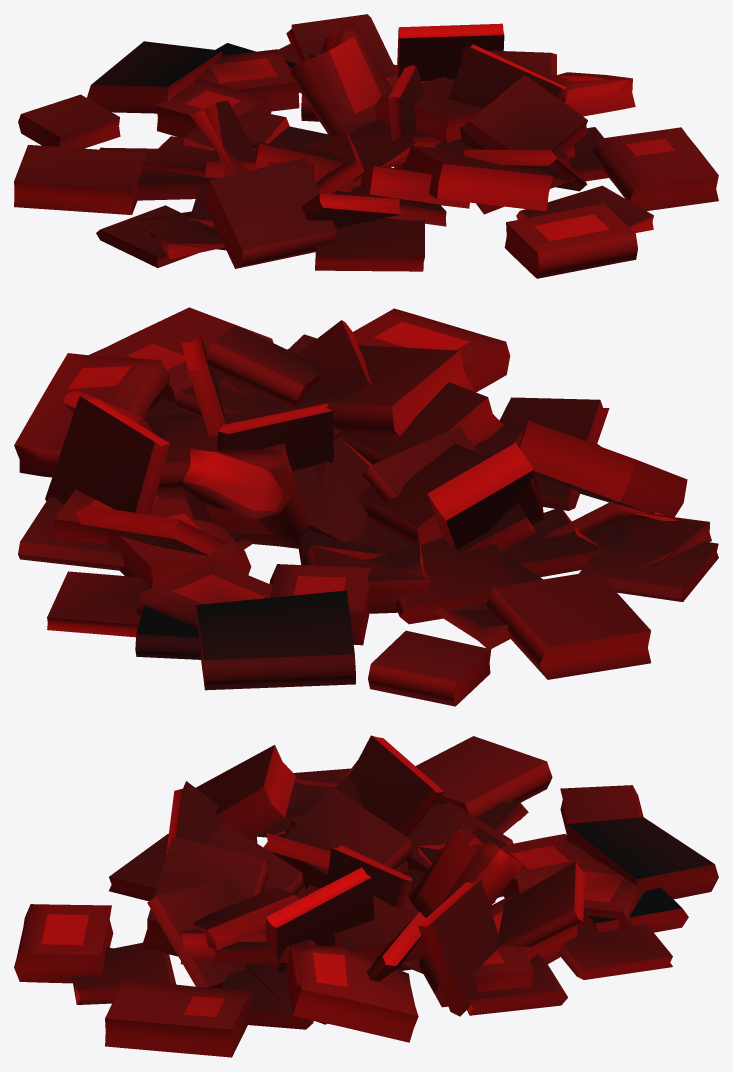
File: PileOfBooks.glb
3 renders of one model, top to bottom at view 1: azimuth 30°, elevation 25°; view 2: azimuth 150°, elevation 25°; view 3: azimuth 270°, elevation 25°, orthographic. The views are drawn at different scales.
Visible parts, largest first — view 1: PileOfBooks; view 2: PileOfBooks; view 3: PileOfBooks.
Boxes of the visible parts, box(x1,y1,x2,y2) form: PileOfBooks: box(14, 14, 718, 278); PileOfBooks: box(14, 307, 718, 706); PileOfBooks: box(14, 735, 718, 1057).
Size of the model in its own units: 9.88 by 1.73 by 10.02.
